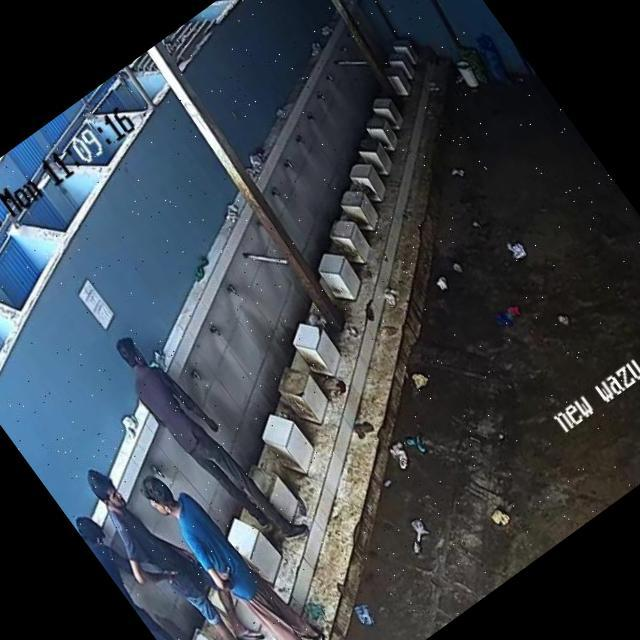person: (104, 318, 310, 572), (75, 448, 274, 640), (138, 454, 329, 640), (68, 496, 254, 640)
